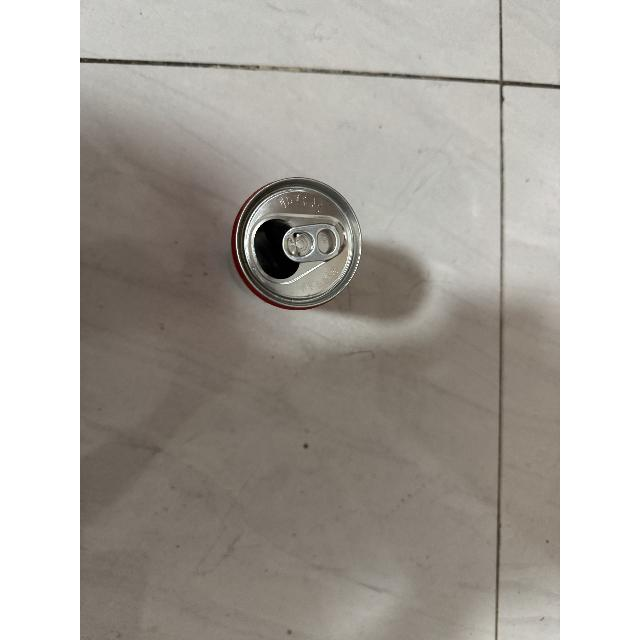coca-cola: (225, 173, 371, 314)
